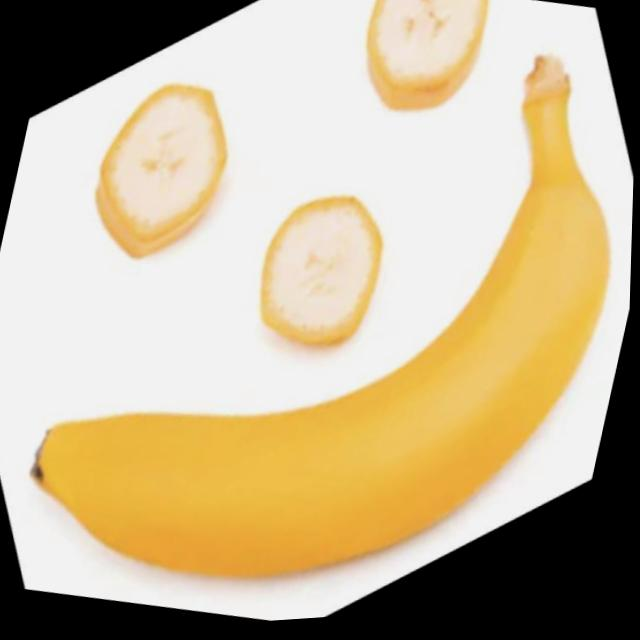Banana: (14, 0, 640, 638), (81, 69, 244, 276), (248, 183, 397, 364), (350, 0, 493, 132)
